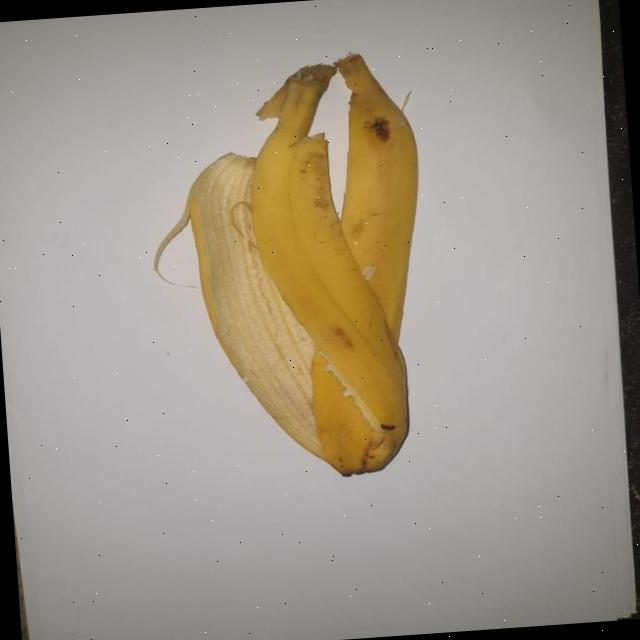banana-peel: (139, 46, 441, 489), (326, 46, 431, 349)
